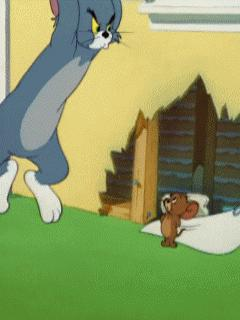jerry: (158, 192, 200, 250)
